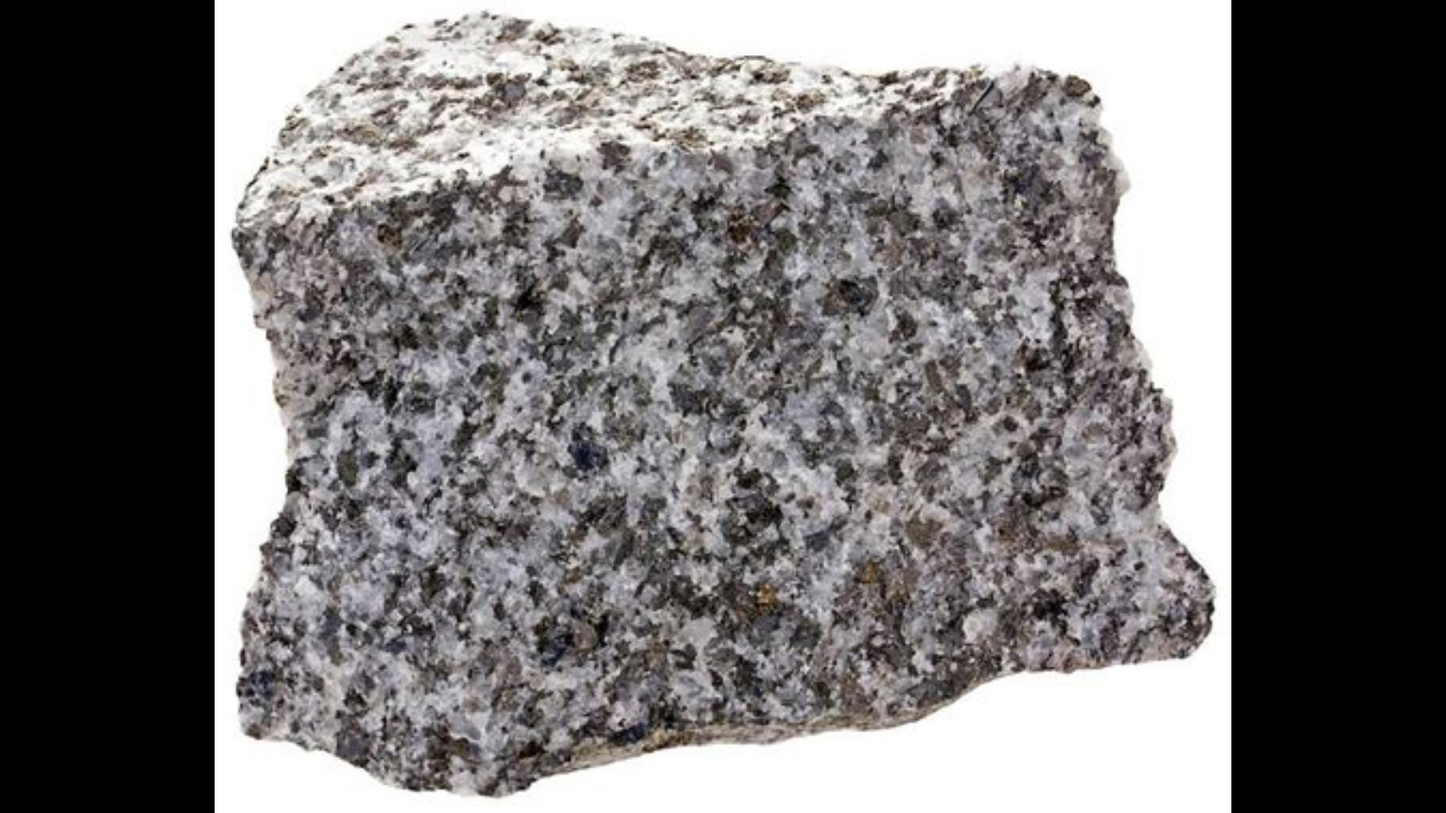rock: (234, 17, 1206, 789)
